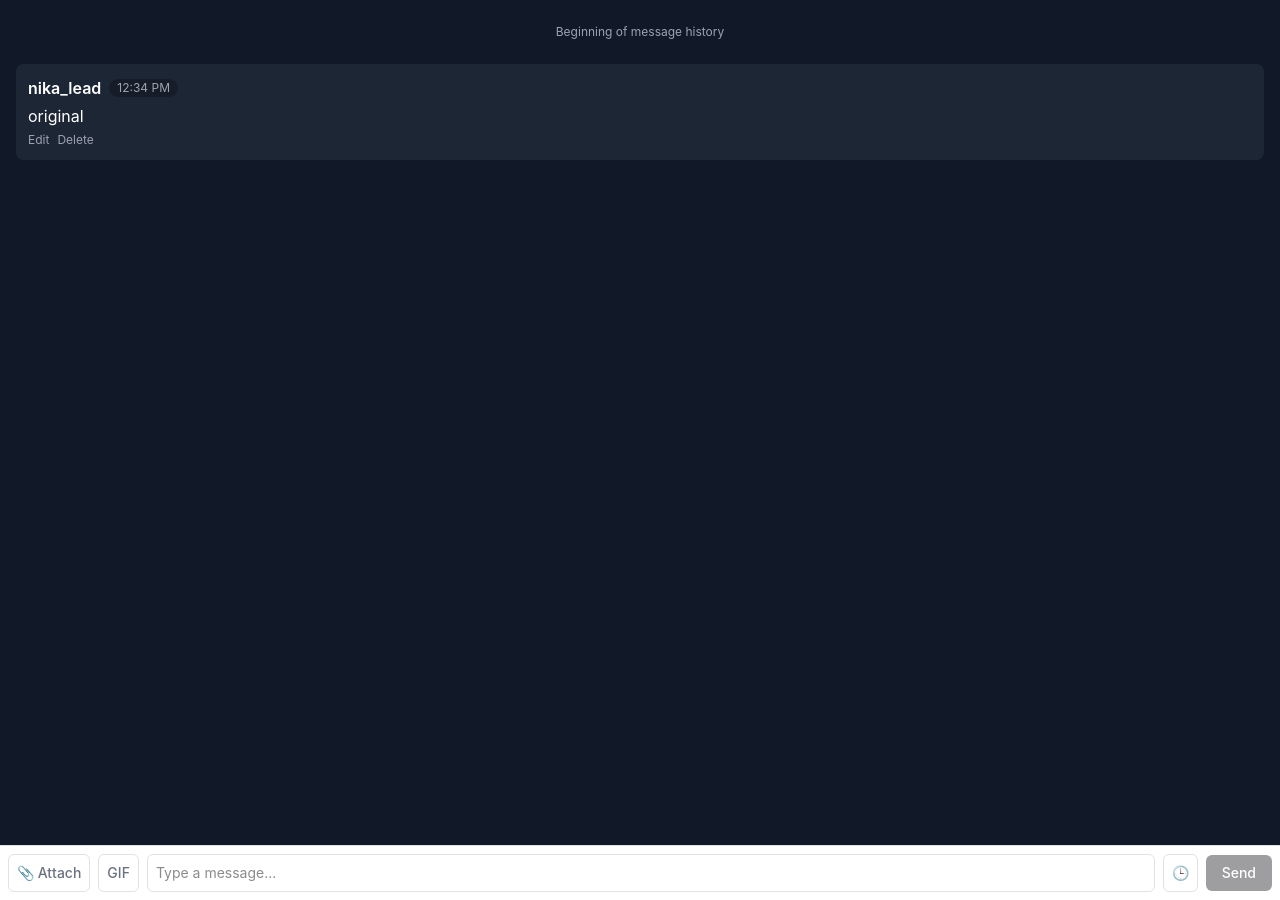
Test: MessageThread › edits a message via MessageActions and reflects the update
Expected: the text "original" is shown, [28, 106, 84, 126]
Click the button with aria-label "edit message": (39, 140) [28, 132, 49, 148]
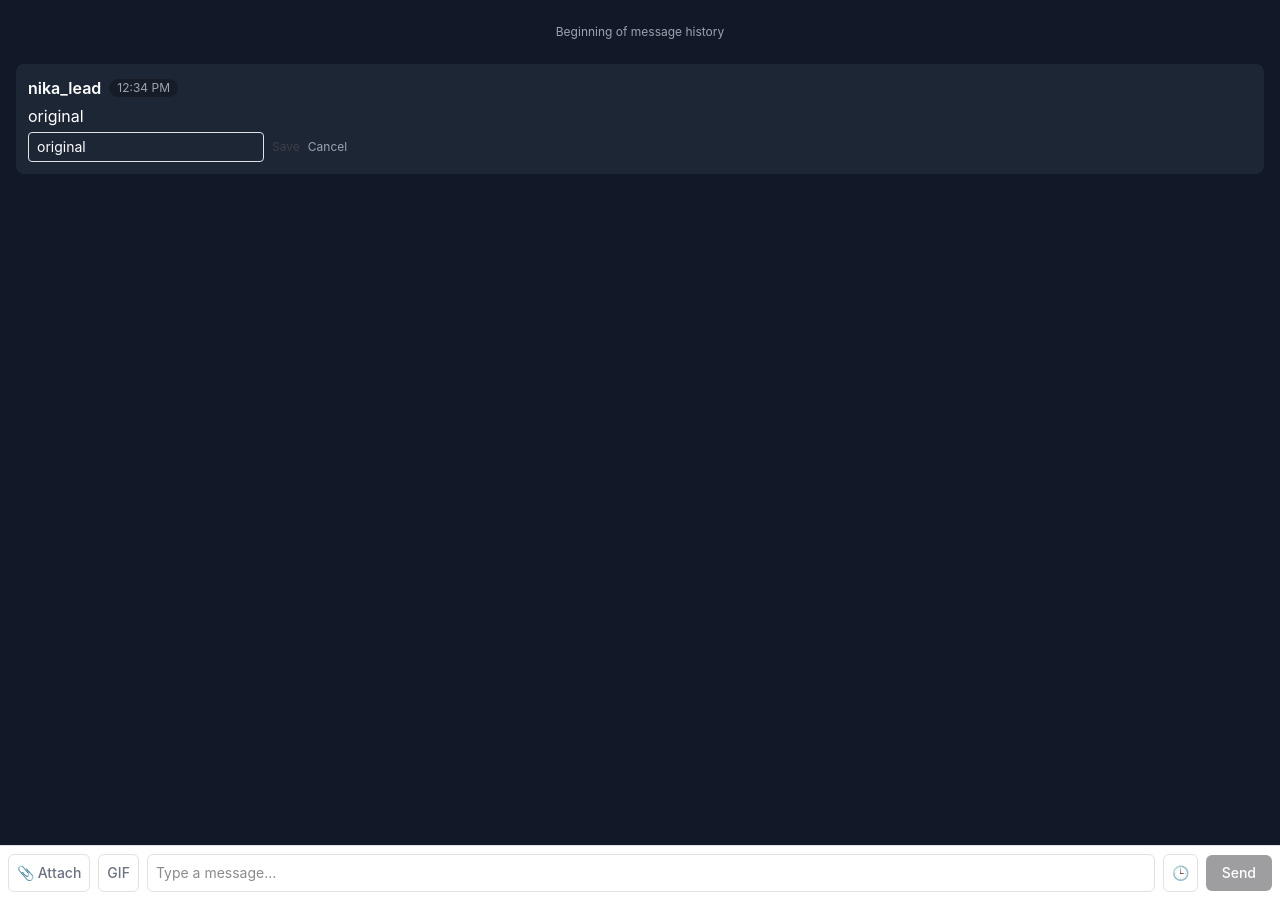
Replace the text in the field showing "original" with "edited": (146, 147) [28, 132, 264, 162]
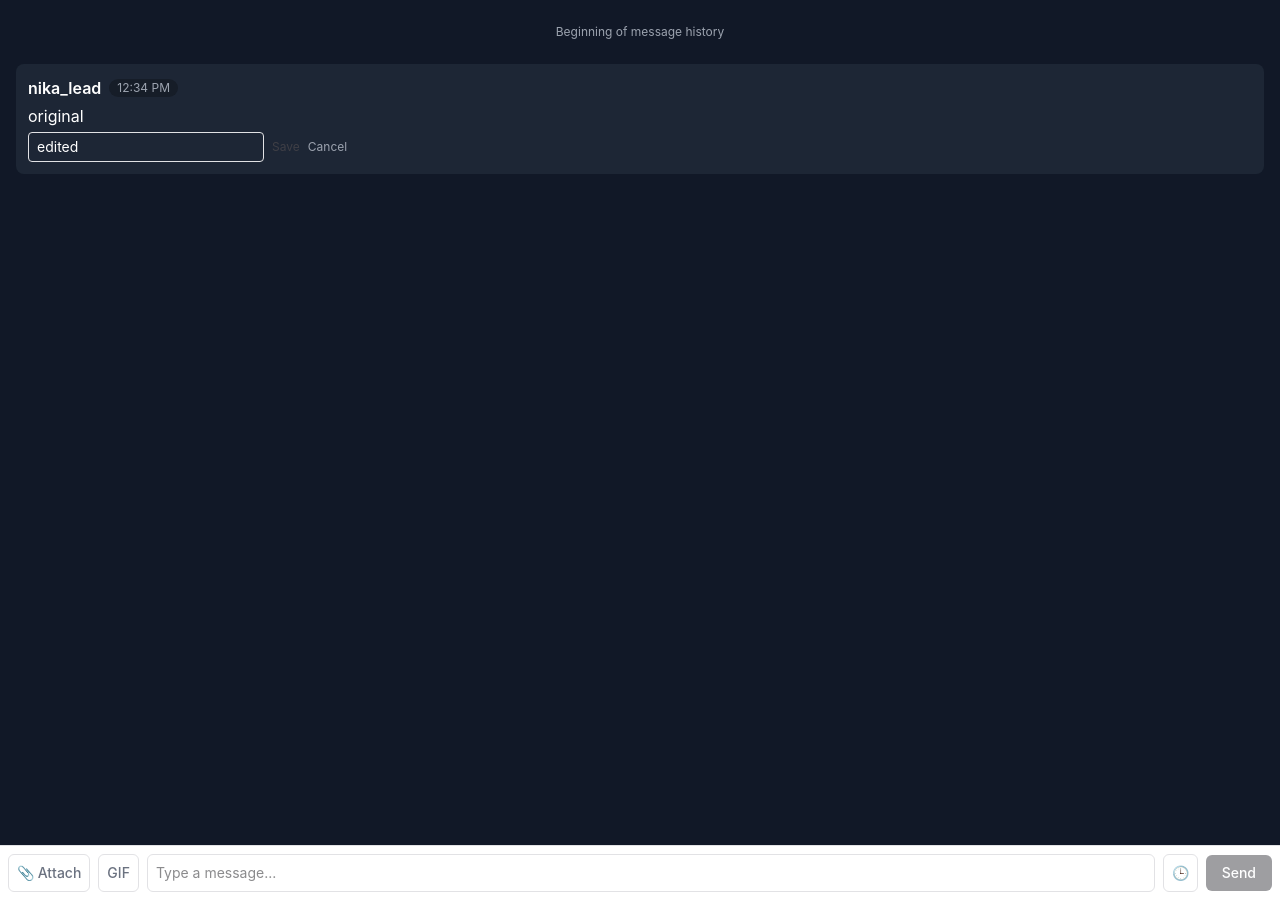
Click the button "Save": (286, 147) [272, 139, 300, 155]
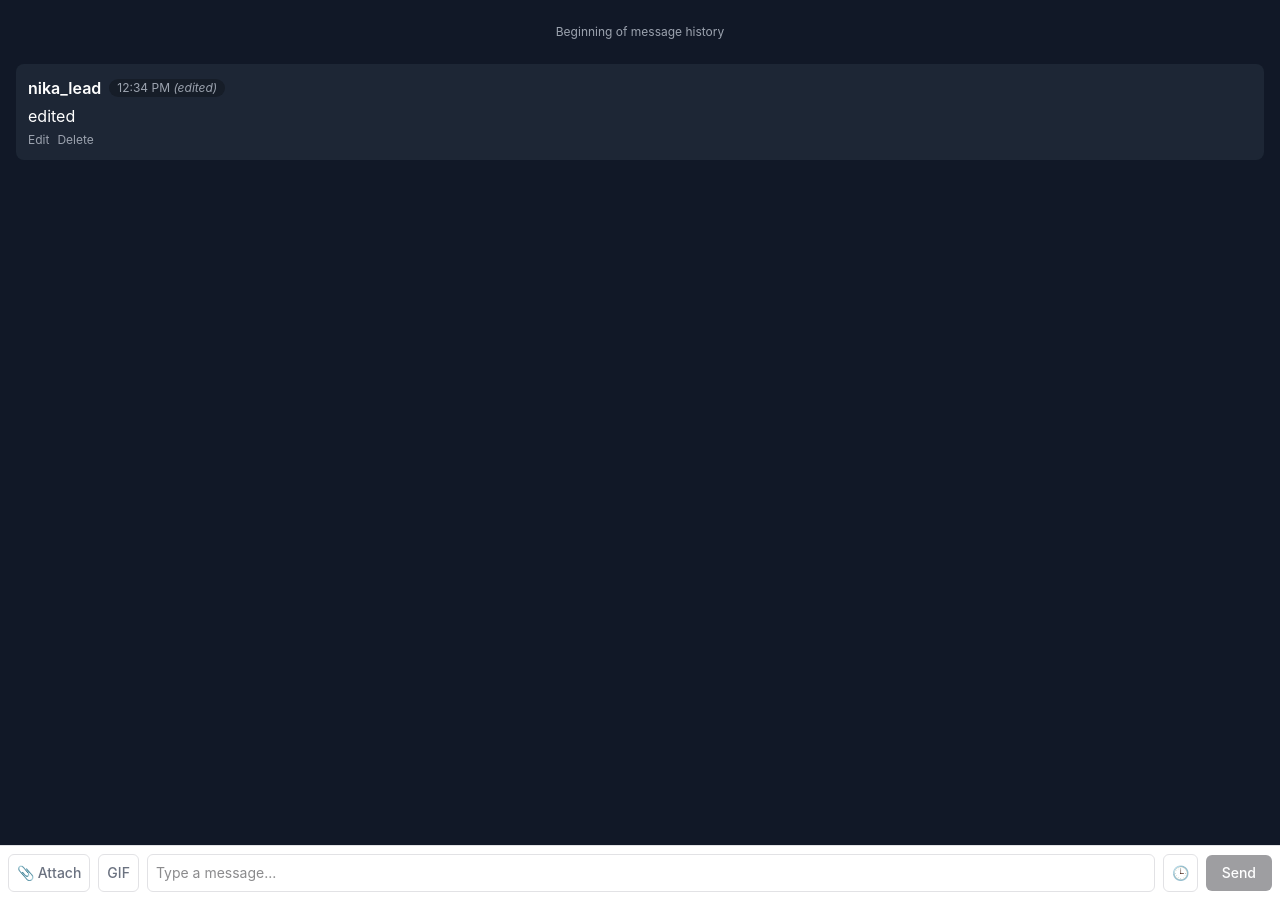
Expected: the text "edited" is shown, [28, 106, 75, 126]
